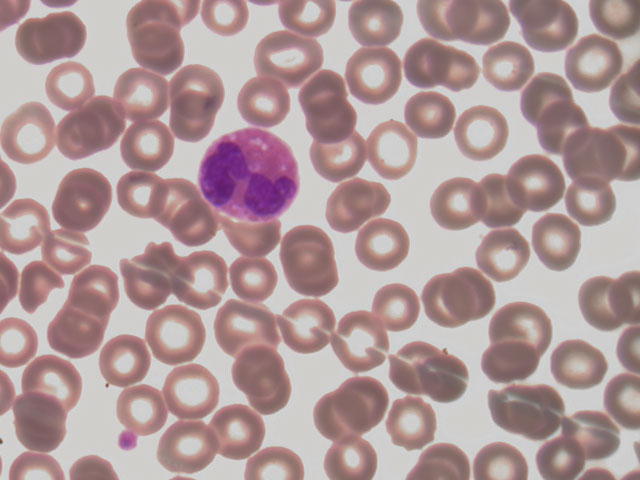Platelets: (117, 432, 140, 452)
RBC: (45, 56, 94, 111), (5, 109, 54, 164), (54, 115, 103, 170), (77, 90, 126, 145), (119, 64, 168, 119), (177, 55, 226, 110), (175, 89, 224, 144), (119, 120, 168, 175), (117, 167, 166, 222), (62, 171, 111, 226), (6, 202, 55, 257), (44, 223, 93, 278), (11, 257, 60, 312), (73, 256, 122, 311), (62, 284, 111, 339), (51, 313, 100, 368), (28, 346, 77, 401), (17, 390, 66, 445), (100, 336, 149, 391), (144, 308, 193, 363), (127, 252, 176, 307), (180, 242, 229, 297), (223, 247, 272, 302), (235, 213, 284, 268), (171, 194, 220, 249), (155, 177, 204, 232), (287, 216, 336, 271), (293, 250, 342, 305), (362, 218, 411, 273), (326, 187, 375, 242), (320, 141, 369, 196), (313, 101, 362, 156), (303, 73, 352, 128), (243, 75, 292, 130), (262, 32, 311, 87), (349, 48, 398, 103), (398, 31, 447, 86), (438, 38, 487, 93), (406, 91, 455, 146), (371, 122, 420, 177), (461, 104, 510, 159), (519, 68, 568, 123), (489, 40, 538, 95), (530, 91, 579, 146), (514, 157, 563, 212), (479, 173, 528, 228), (426, 186, 475, 241), (480, 231, 529, 286), (534, 219, 583, 274), (561, 177, 610, 232), (574, 119, 623, 174), (448, 263, 497, 318), (419, 276, 468, 331), (374, 281, 423, 336), (340, 312, 389, 367), (286, 306, 335, 361), (129, 21, 178, 76), (114, 3, 163, 58), (46, 10, 95, 65), (8, 15, 57, 70), (531, 5, 580, 60), (568, 36, 617, 91), (579, 271, 628, 326), (497, 301, 546, 356), (485, 331, 534, 386), (426, 350, 475, 405), (398, 340, 447, 395), (341, 373, 390, 428), (314, 391, 363, 446), (248, 367, 297, 422), (239, 349, 288, 404), (225, 304, 274, 359), (160, 364, 209, 419), (122, 378, 171, 433), (164, 425, 213, 480), (324, 425, 373, 480), (480, 425, 529, 480), (495, 382, 544, 437), (558, 336, 607, 391), (577, 408, 626, 463), (526, 425, 575, 480), (357, 1, 406, 55)
WBC: (202, 127, 295, 224)
